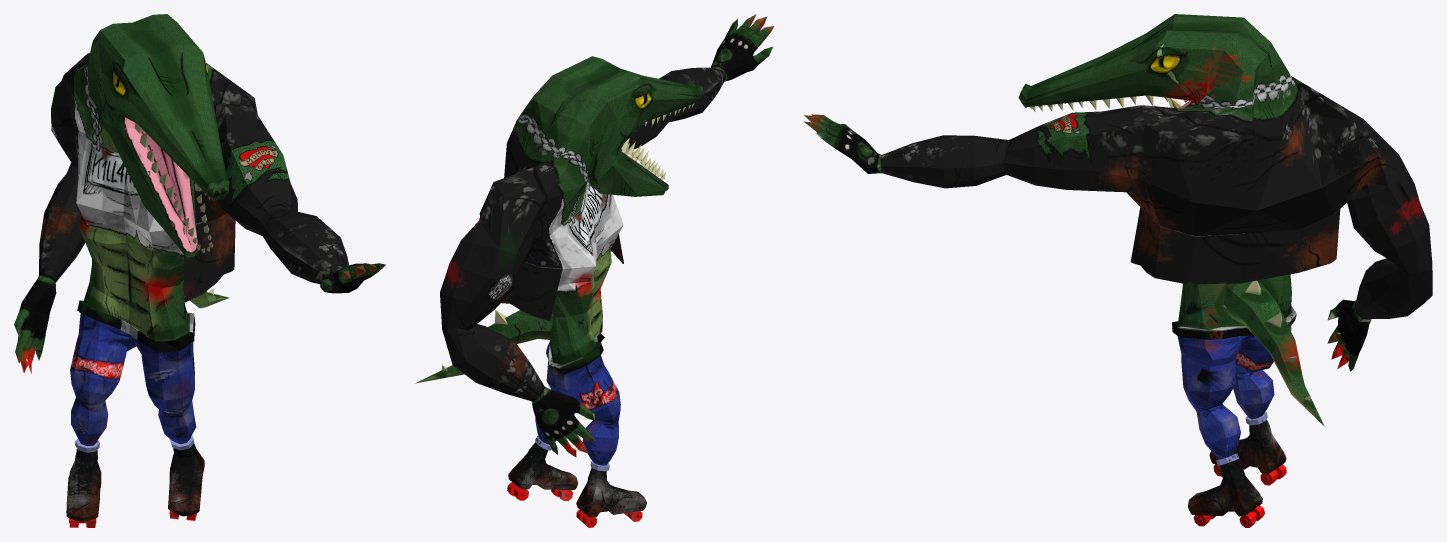
File: cocodrilaBonesSelect_000027.obj
The picture shows the model from 3 angles, left to right: view 1: azimuth 30°, elevation 25°; view 2: azimuth 150°, elevation 25°; view 3: azimuth 270°, elevation 25°; orthographic projection. The views are drawn at different scales.
Visible parts, largest first — view 1: Crocodile.002_Cylinder.002; view 2: Crocodile.002_Cylinder.002; view 3: Crocodile.002_Cylinder.002.
Boxes of the visible parts, x1,y1,x2,y2 form: Crocodile.002_Cylinder.002: (14,14,385,527); Crocodile.002_Cylinder.002: (415,14,774,527); Crocodile.002_Cylinder.002: (804,14,1432,527).
Bounding box in the file's own units: 2.98 × 6.63 × 7.85.
